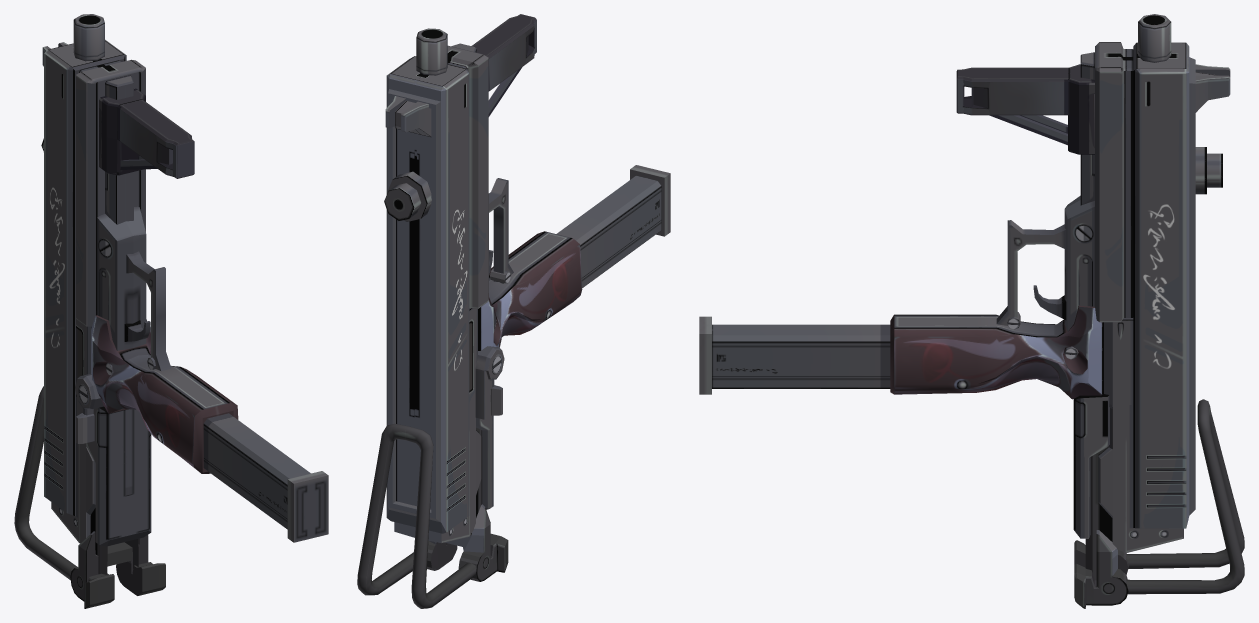
File: KafKa_Gun2.fbx
3 renders of one model, left to right at view 1: azimuth 30°, elevation 25°; view 2: azimuth 150°, elevation 25°; view 3: azimuth 270°, elevation 25°, orthographic. The views are drawn at different scales.
Parts seen in each view (by area): view 1: 卡芙卡_mesh; view 2: 卡芙卡_mesh; view 3: 卡芙卡_mesh.
Part boxes in pixels (x1,y1,x2,y2): 卡芙卡_mesh: (14, 14, 328, 608); 卡芙卡_mesh: (357, 14, 670, 608); 卡芙卡_mesh: (699, 14, 1244, 608).
Bounding box in the file's own units: 71.37 × 472 × 410.
